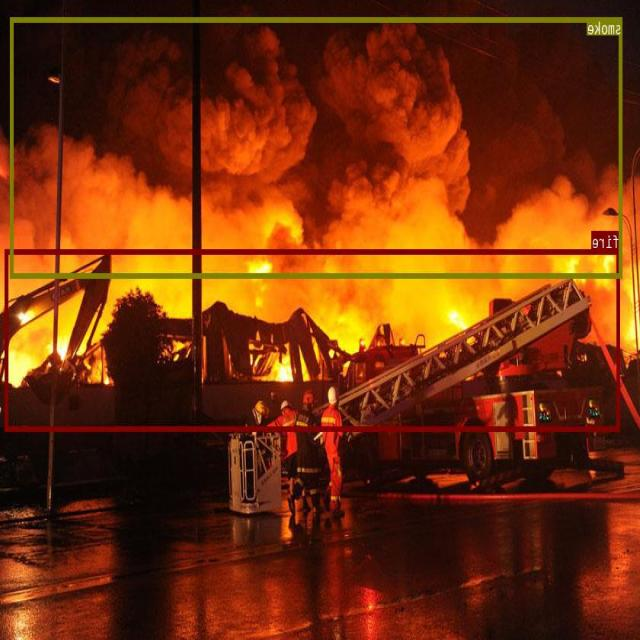fire: (6, 248, 621, 430)
smoke: (11, 17, 622, 278)
